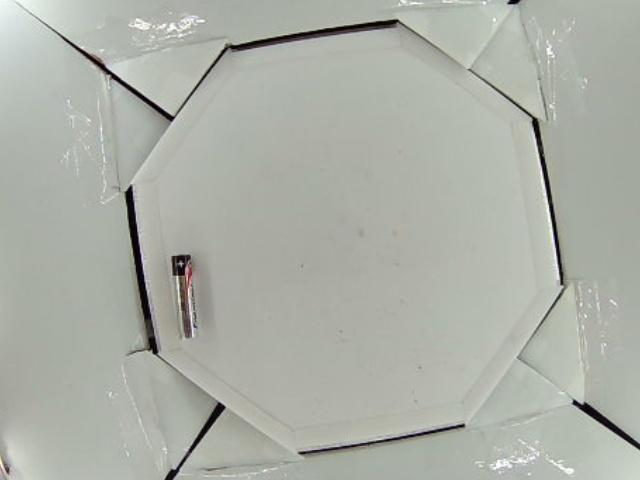Battery: (170, 256, 197, 341)
